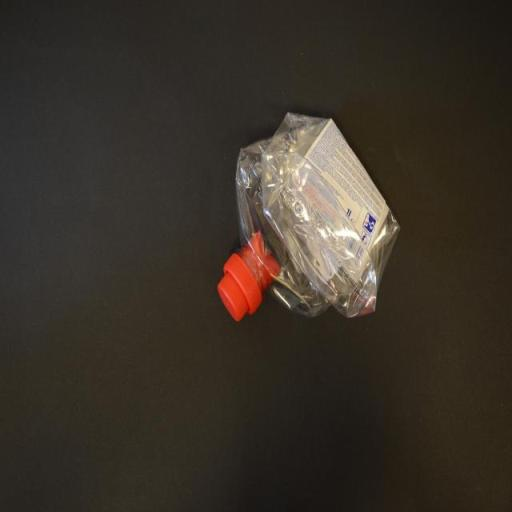plastic: (214, 110, 404, 326)
